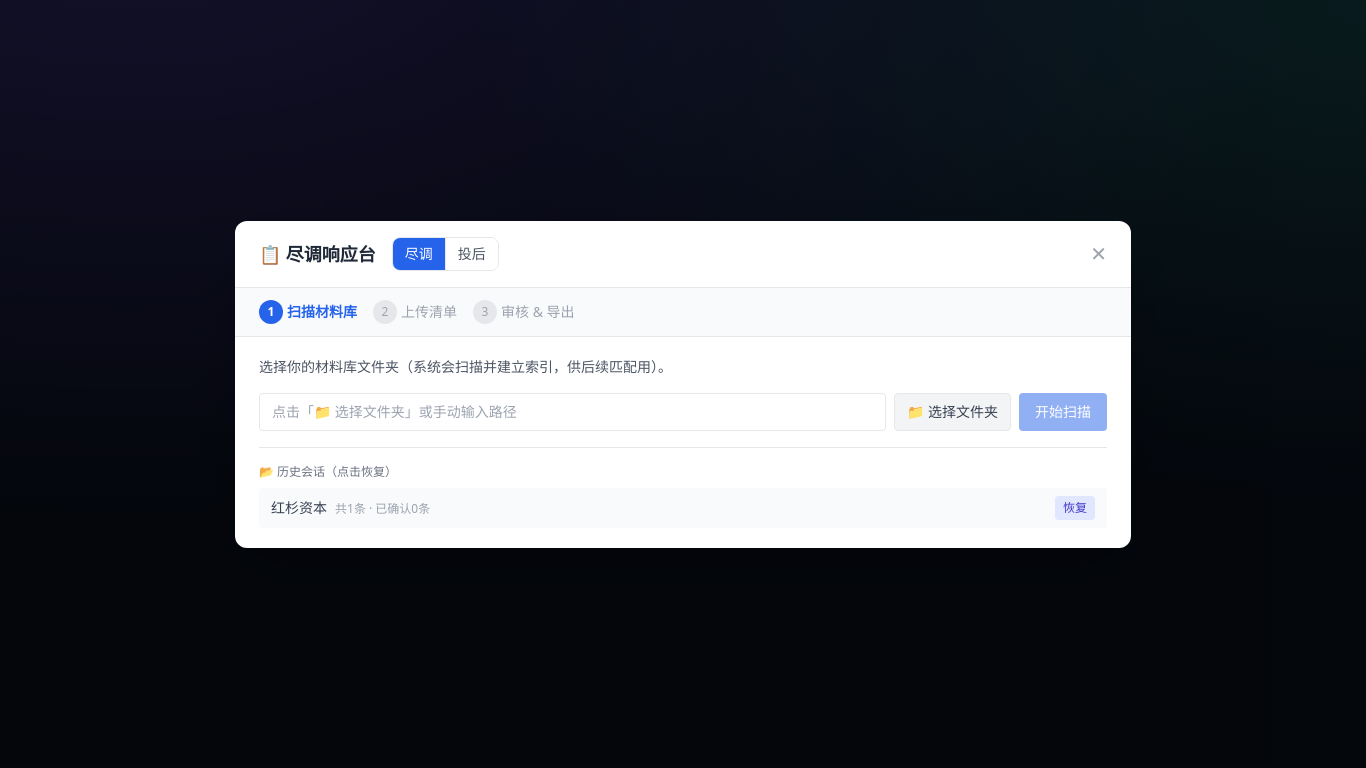
it: DueDiligenceWizard 加密文件密码 › 加密文件显示🔒，登记密码后回传后端
Click the button "恢复": [1075, 508] box [1055,496,1095,520]
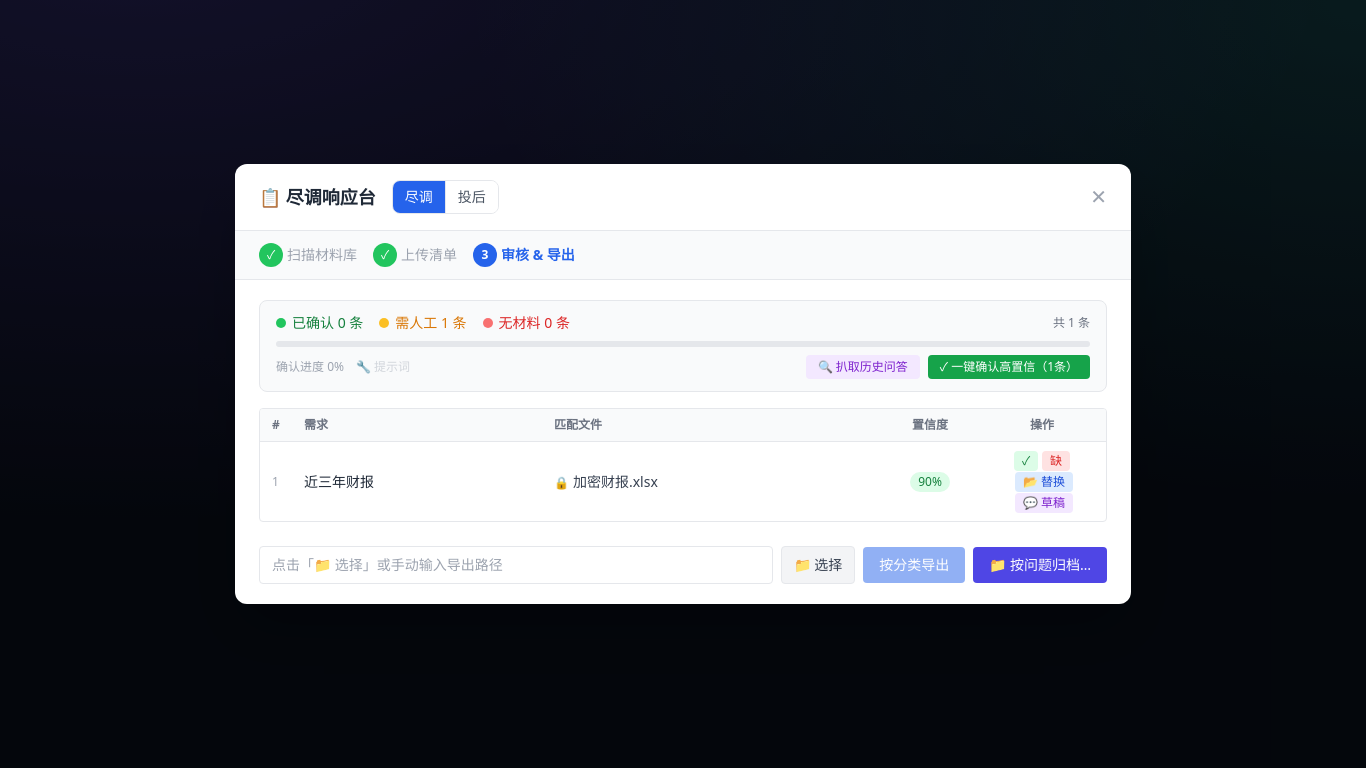
Expected: the button "🔒" is shown
#  点开密码输入行
Click the button "🔒": [561, 482] box [554,474,569,490]
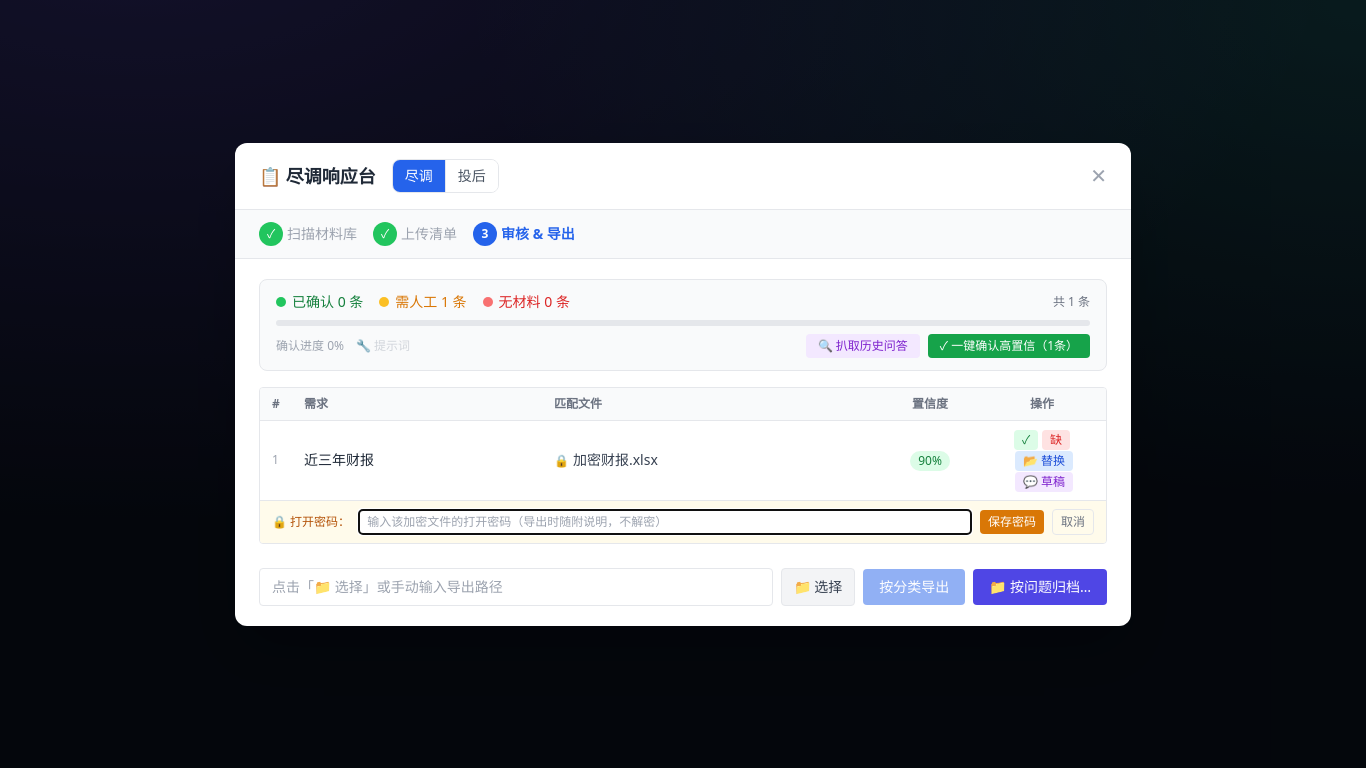
In the field with placeholder "输入该加密文件的打开密码（导出时随附说明，不解密）": [665, 522] box [358,508,972,534], type "secret123"
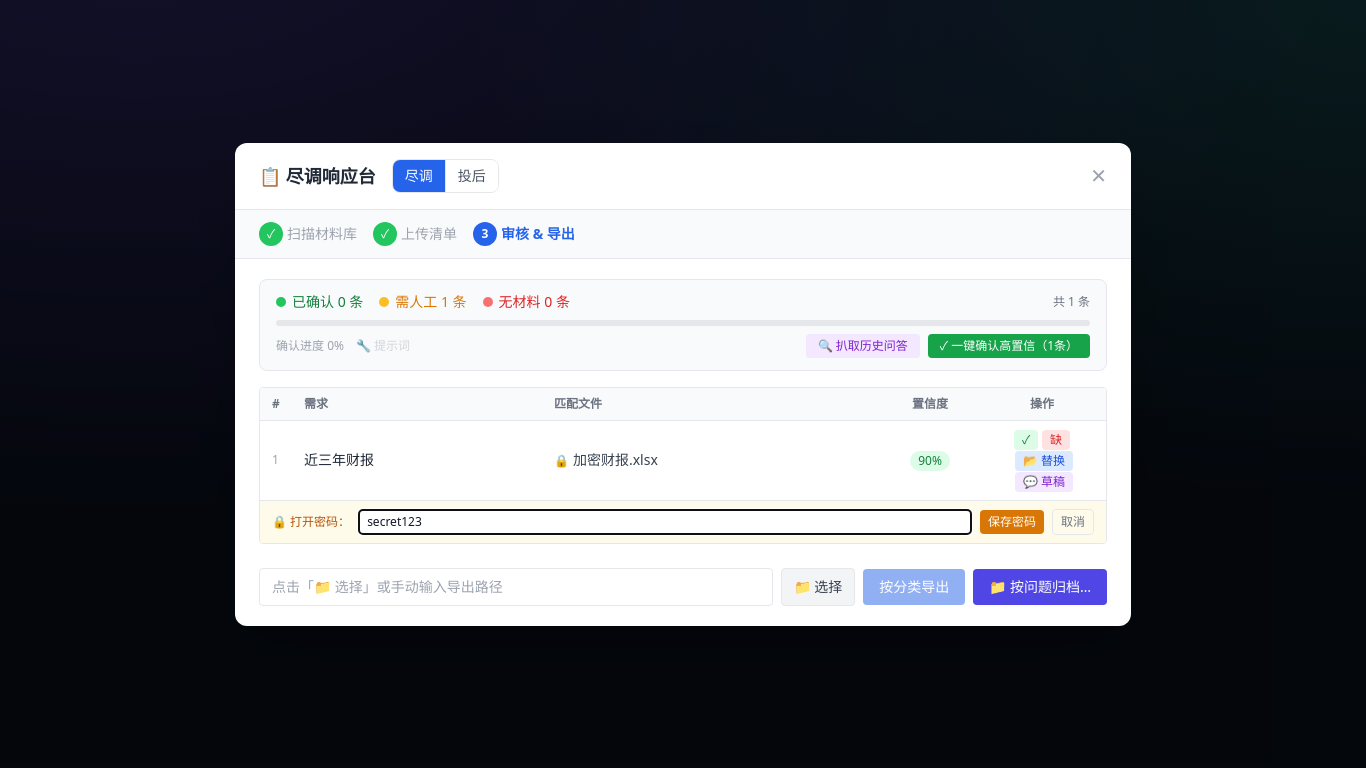
Click the button "保存密码": [1012, 522] box [980,510,1044,534]
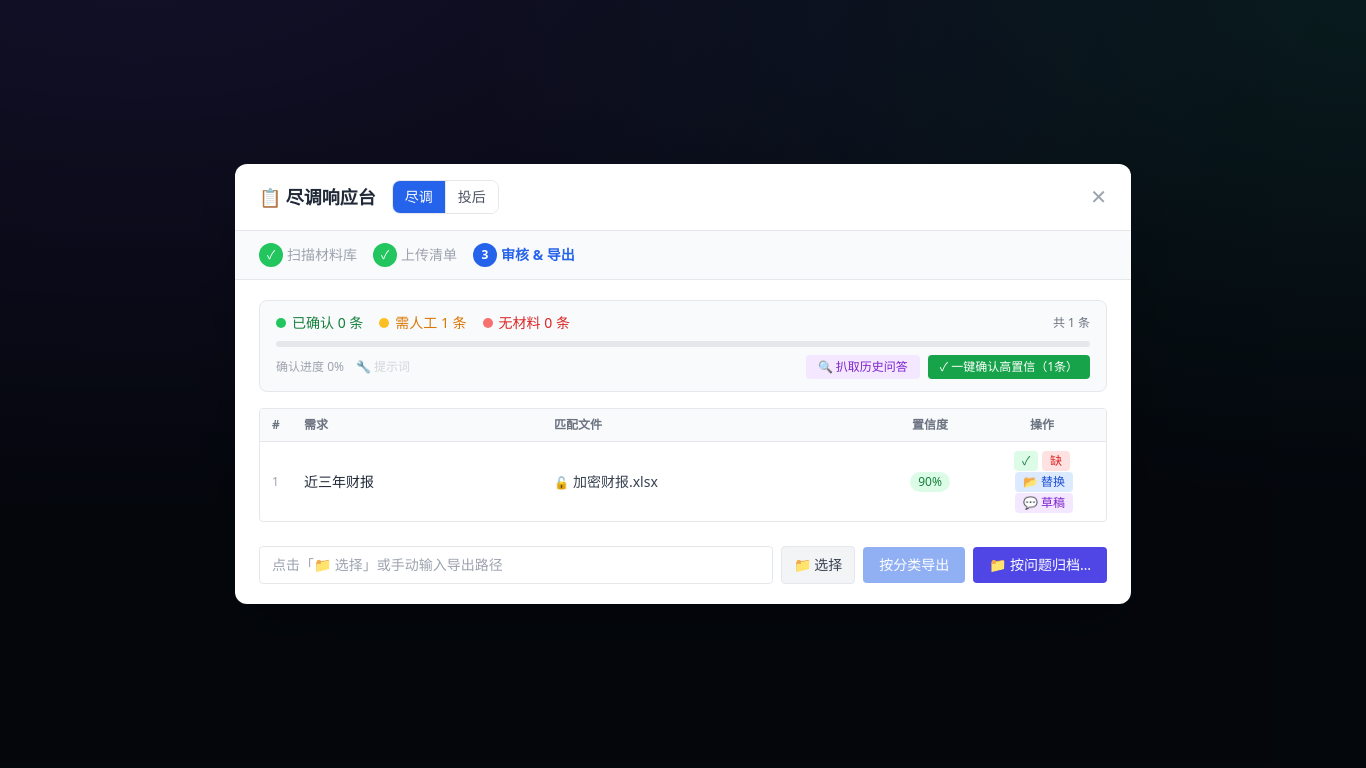
Expected: the button "🔓" is shown, [554,474,569,490]
